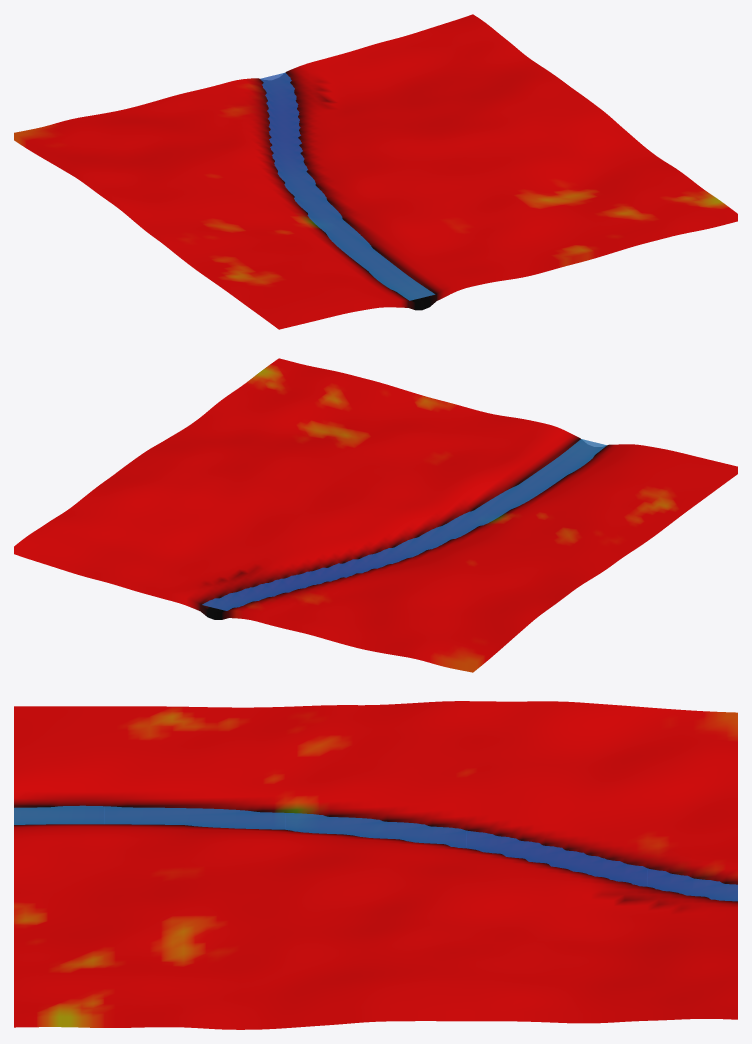
File: chunk_5_3.glb
3 renders of one model, top to bottom at view 1: azimuth 30°, elevation 25°; view 2: azimuth 150°, elevation 25°; view 3: azimuth 270°, elevation 25°, orthographic. The views are drawn at different scales.
Parts seen in each view (by area): view 1: LOD0, Water; view 2: LOD0, Water; view 3: LOD0, Water.
Boxes of the visible parts, bbox=[...] form: LOD0: bbox=[14, 14, 737, 329]; Water: bbox=[260, 72, 435, 300]; LOD0: bbox=[14, 358, 737, 672]; Water: bbox=[202, 439, 606, 610]; LOD0: bbox=[14, 701, 737, 1029]; Water: bbox=[14, 805, 737, 901].
Size of what is drawn, in the model's own units: 256 by 14.27 by 256.
